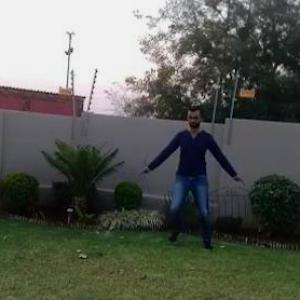land: (141, 110, 246, 248)
